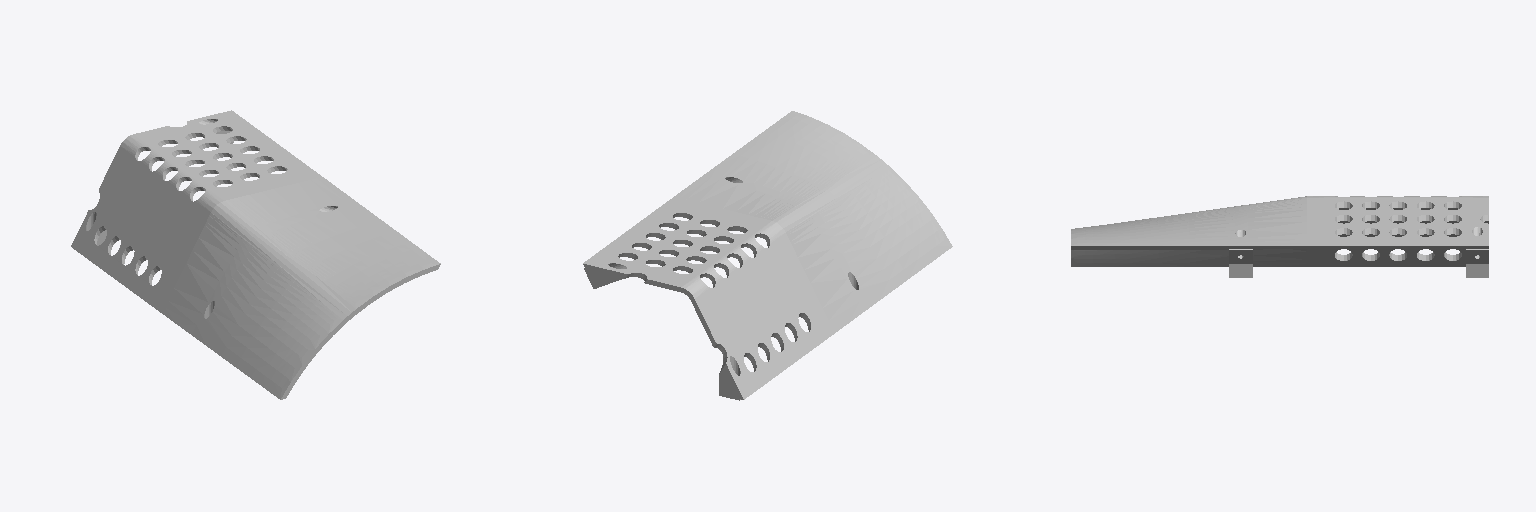
File: Light_Cured_Case.02.obj
The picture shows the model from 3 angles: view 1: azimuth 30°, elevation 25°; view 2: azimuth 150°, elevation 25°; view 3: azimuth 270°, elevation 25°; orthographic projection.
Visible parts, largest first — view 1: 實體1; view 2: 實體1; view 3: 實體1.
Part boxes in pixels (x1,y1,x2,y2): 實體1: (71,110,440,399); 實體1: (583,111,952,400); 實體1: (1071,196,1488,277).
Bounding box in the file's own units: 0.1022 × 0.06 × 0.23.